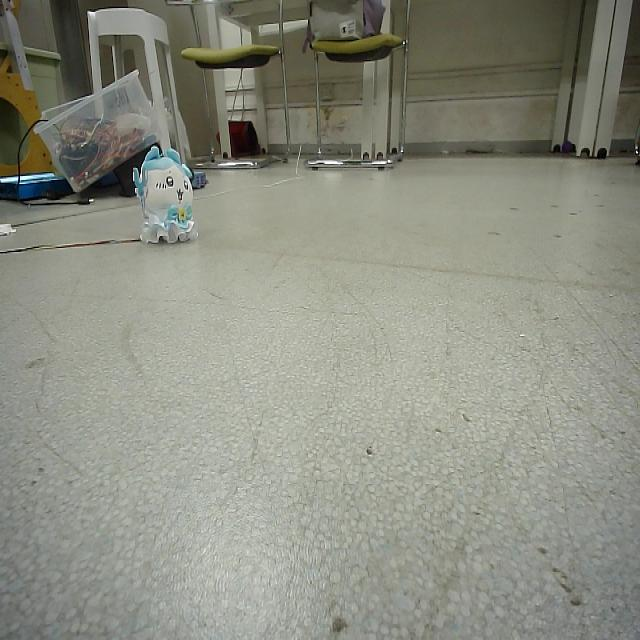xiaoba: (132, 142, 201, 250)
